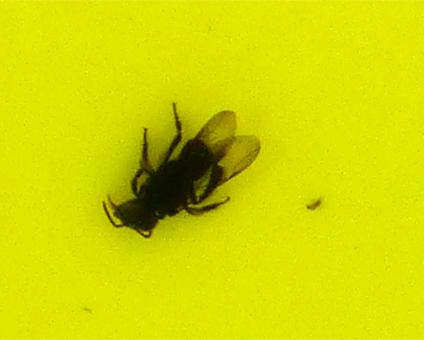Hymenoptera: (100, 100, 262, 240)
Nematocera: (304, 196, 324, 212)
